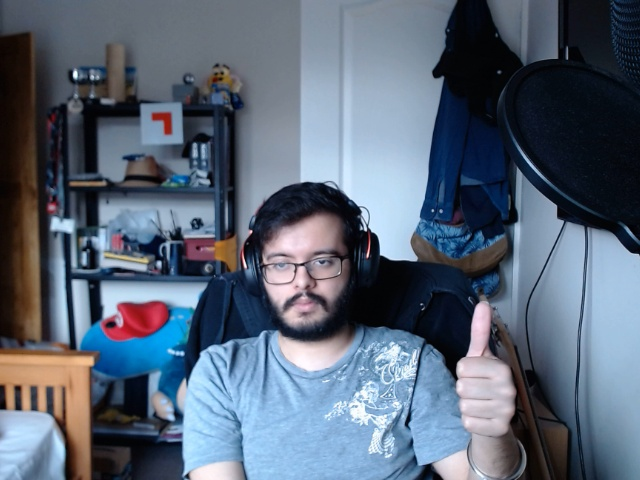Thumbs up: (446, 293, 524, 437)
